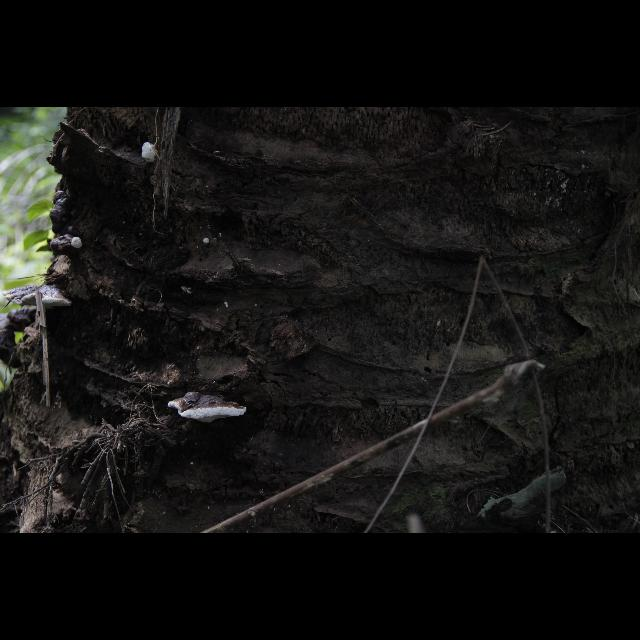ganoderma: (168, 393, 248, 425), (50, 191, 75, 257), (3, 286, 73, 309)
primordium: (142, 143, 160, 163), (72, 238, 84, 250), (204, 239, 210, 245)
